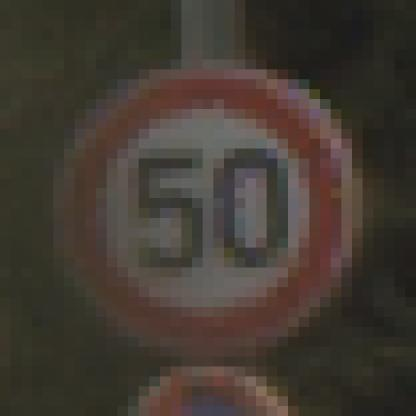Speed Limit 50: (60, 66, 353, 356)
